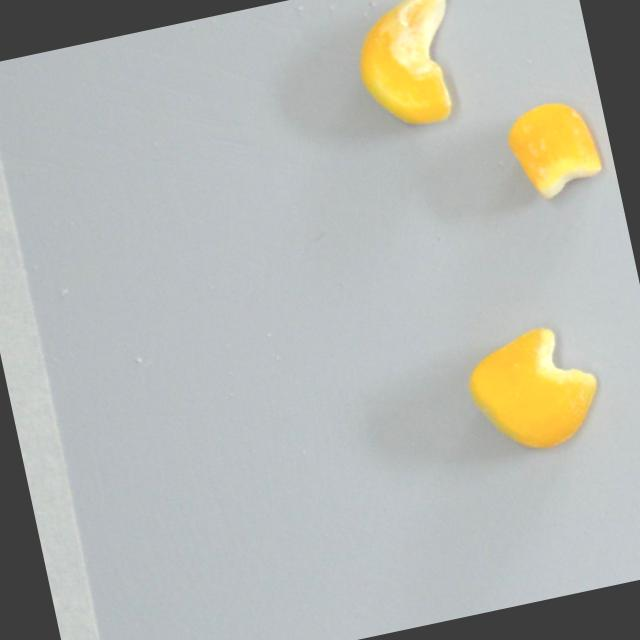dañado: (450, 310, 612, 469), (341, 0, 476, 145)
pelicula: (497, 89, 609, 207)
